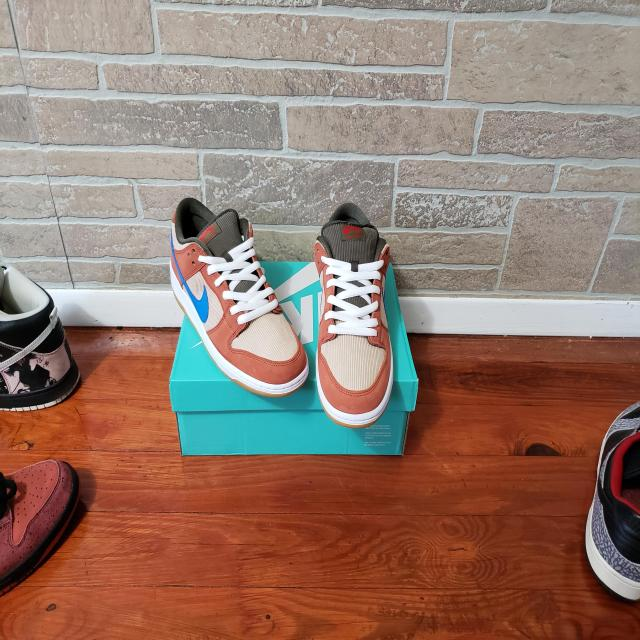shoe: (167, 194, 311, 398), (313, 199, 396, 430), (0, 253, 81, 413), (583, 394, 640, 604), (0, 454, 82, 597)
